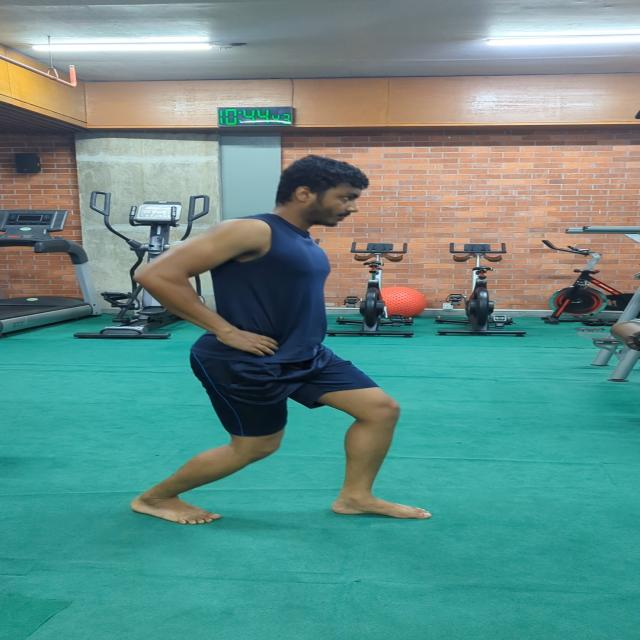Normal_Lunges: (119, 146, 438, 526)
